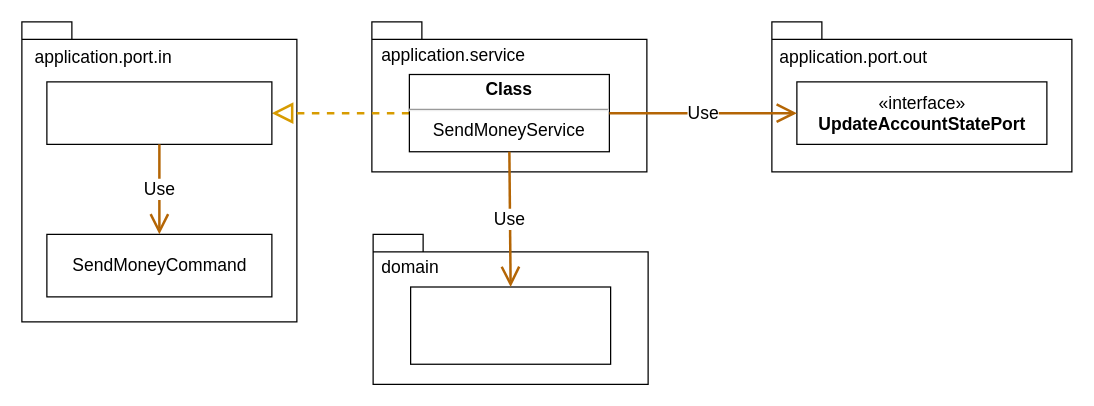
The diagram is 1094 pixels wide and 406 high, and some of its shapes have lost their labels. Each missing label, with the centre of its shape:
"Class Account" goes at point (510, 325).
"«interface» SendMoneyUseCase" goes at point (159, 112).
